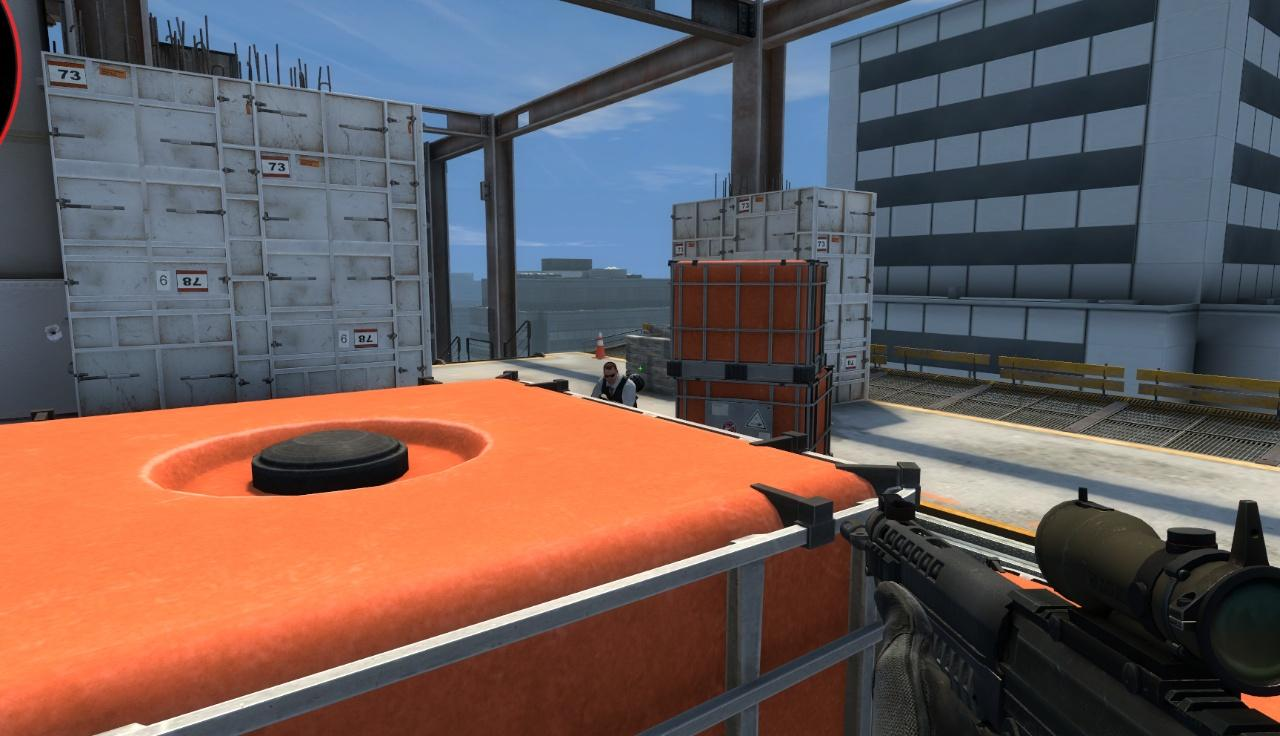rifle: (840, 469, 1280, 736)
tt: (591, 363, 635, 407)
tthead: (604, 362, 617, 383)
